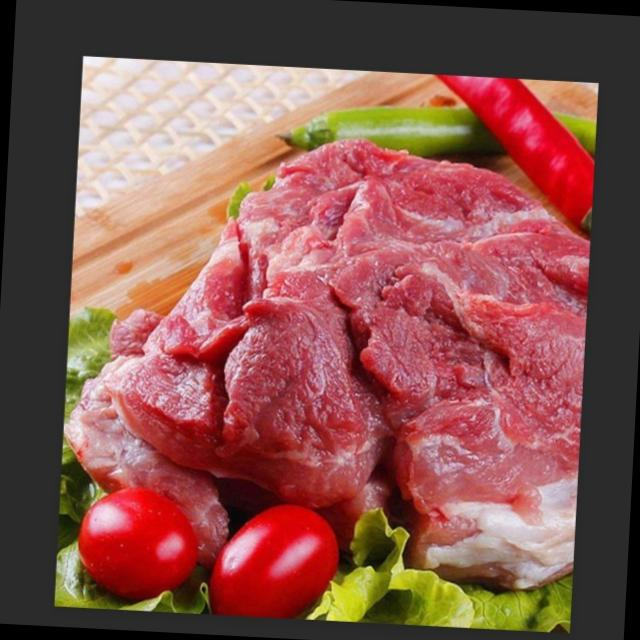--: (114, 140, 587, 598), (61, 308, 231, 553)
